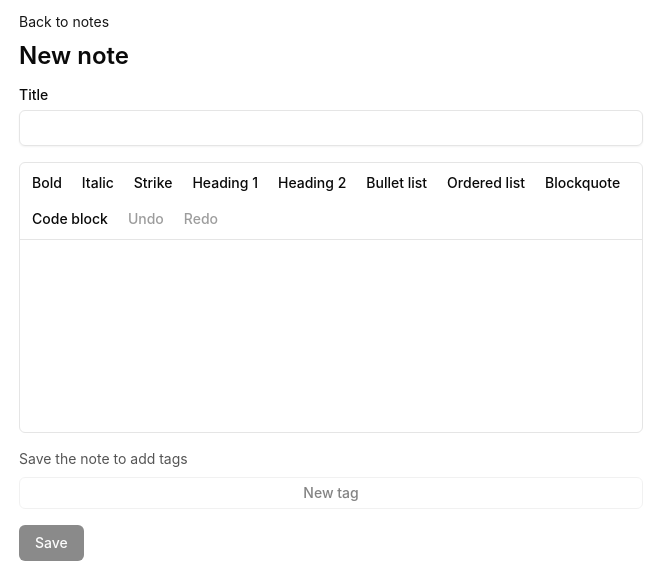
Test: NoteEditorPage autosave of a new note › Typing during create is kept
Expected: the field named "Note content" is shown, [20,240,642,432]
In the field labelled "Title": (331, 128) [19,110,643,146], type "Groceries"
Wait 1000 ms
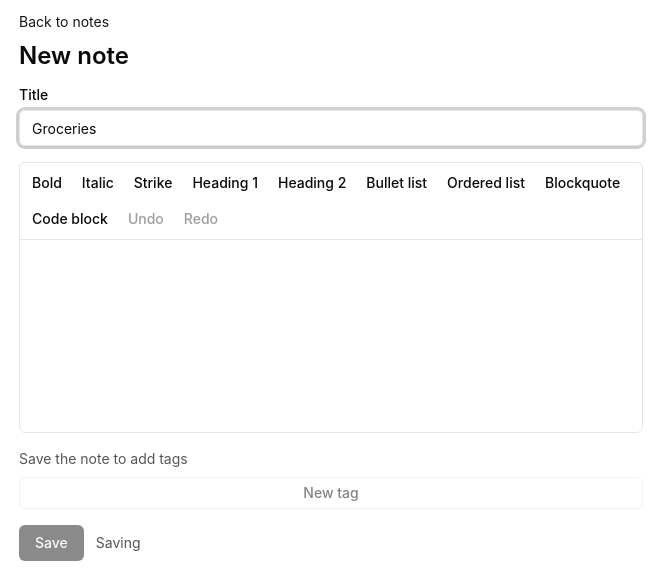
Click the field named "Note content": (331, 336) [20,240,642,432]
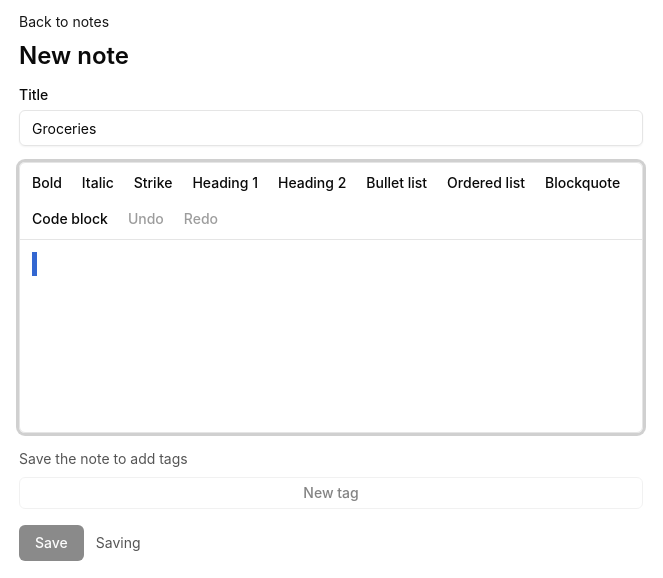
Type keys "Milk"
Wait 1000 ms
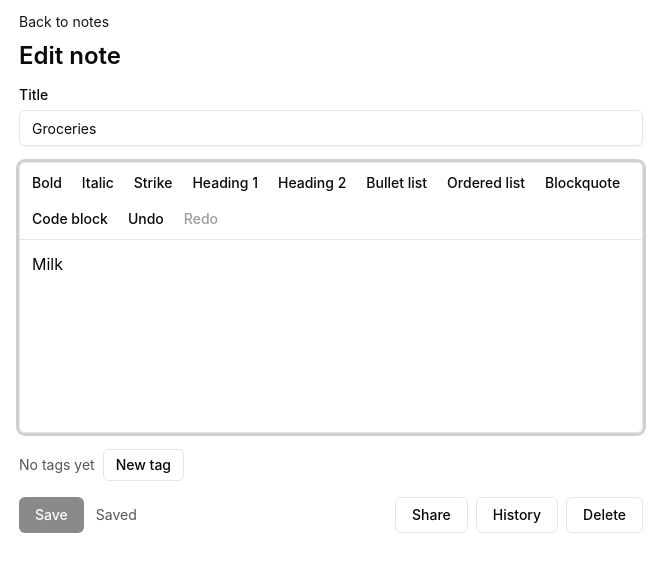
Expected: the field named "Note content" reads "Milk", [32,254,63,274]
